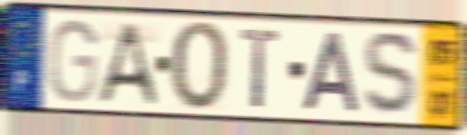A: (93, 19, 160, 108), (300, 29, 364, 116)
G: (46, 17, 100, 106)
O: (168, 18, 231, 115)
S: (360, 28, 423, 121)
T: (238, 26, 283, 111)
